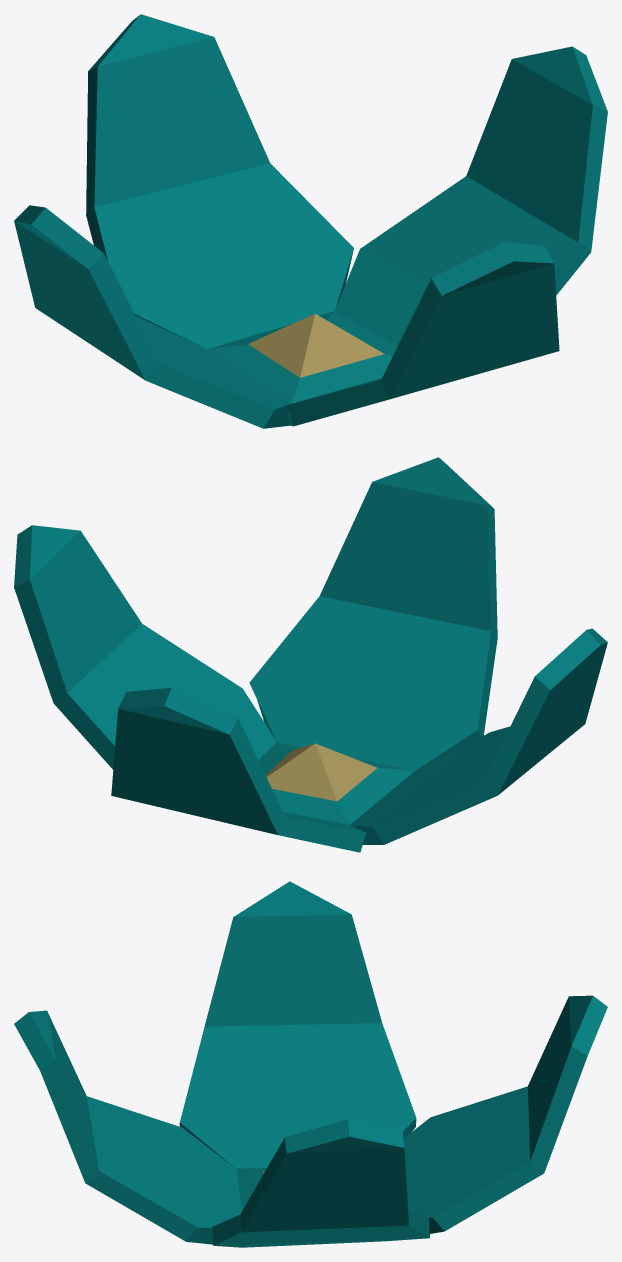
Rendered from Flowers_Crop.gltf.
The picture shows the model from 3 angles, top to bottom: view 1: azimuth 30°, elevation 25°; view 2: azimuth 150°, elevation 25°; view 3: azimuth 270°, elevation 25°; orthographic projection. The views are drawn at different scales.
Parts seen in each view (by area): view 1: Flowers_Crop; view 2: Flowers_Crop; view 3: Flowers_Crop.
Boxes of the visible parts, x1,y1,x2,y2 form: Flowers_Crop: (14,14,607,428); Flowers_Crop: (14,457,607,852); Flowers_Crop: (14,881,607,1247).
Size of the model in its own units: 0.2918 by 0.1162 by 0.2926.
